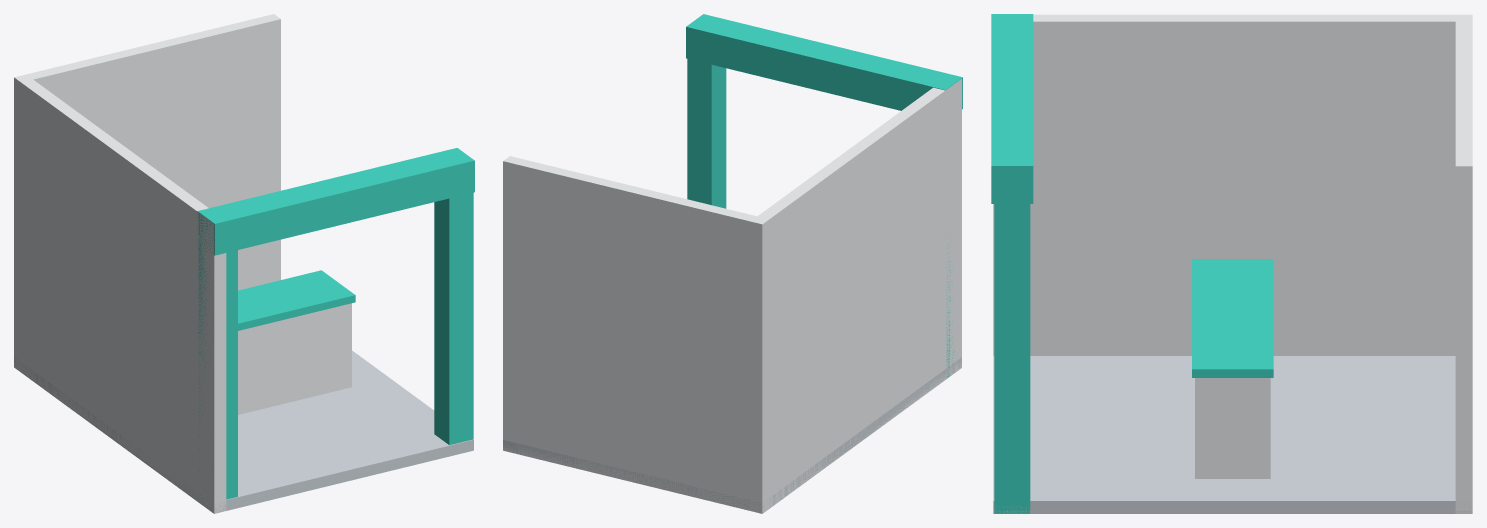
3 views of the same model, side by side, from view 1: azimuth 30°, elevation 25°; view 2: azimuth 150°, elevation 25°; view 3: azimuth 270°, elevation 25° (orthographic). The views are drawn at different scales.
Visible parts, largest first — view 1: Exhibition Booth Concept; view 2: Exhibition Booth Concept; view 3: Exhibition Booth Concept.
Part boxes in pixels (x1,y1,x2,y2): Exhibition Booth Concept: [14, 14, 474, 513]; Exhibition Booth Concept: [503, 14, 962, 513]; Exhibition Booth Concept: [991, 14, 1472, 513].
Size of the model in its own units: 3 by 3.2 by 4.02.
